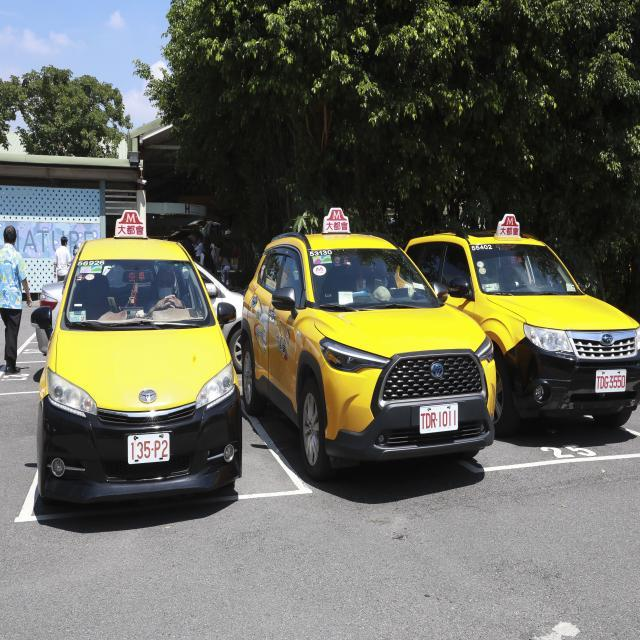taxi: (243, 190, 500, 518), (33, 189, 245, 540), (415, 184, 640, 466)
